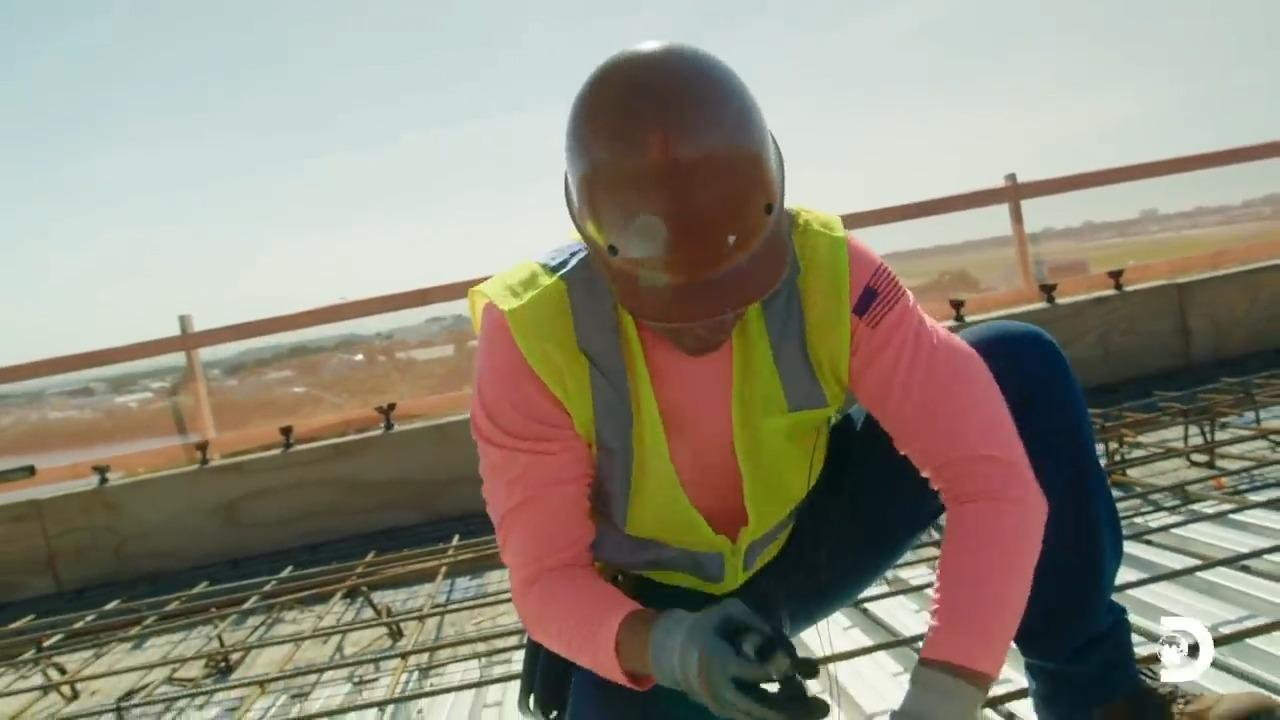Gloves: (656, 608, 828, 717)
Helmet: (562, 40, 790, 326)
Person: (466, 39, 1277, 719)
Safety Boot: (1062, 672, 1280, 720)
Safety Vest: (539, 299, 837, 557)
